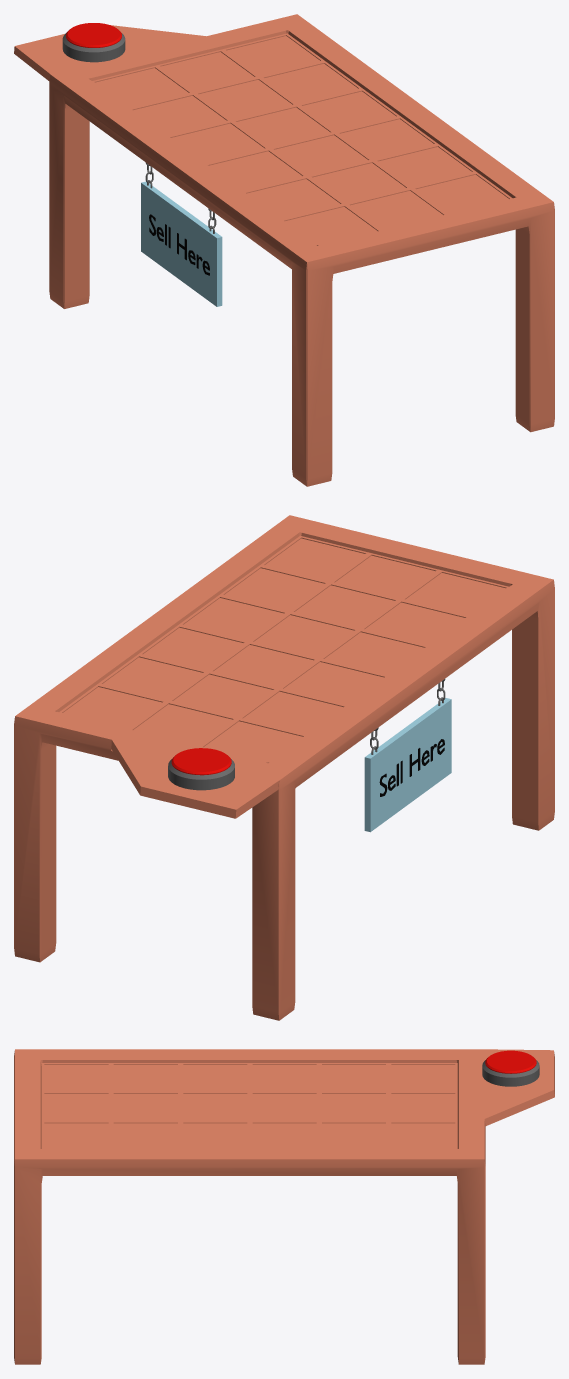
The model's file is SellTable.fbx.
The picture shows the model from 3 angles, top to bottom: view 1: azimuth 30°, elevation 25°; view 2: azimuth 150°, elevation 25°; view 3: azimuth 270°, elevation 25°; orthographic projection. The views are drawn at different scales.
Parts seen in each view (by area): view 1: Sell Table, Sell Button; view 2: Sell Table, Sell Button; view 3: Sell Table, Sell Button.
Boxes of the visible parts, x1=… form: Sell Table: x1=14, y1=14, x2=554, y2=486; Sell Button: x1=62, y1=23, x2=125, y2=62; Sell Table: x1=14, y1=515, x2=554, y2=1020; Sell Button: x1=168, y1=748, x2=234, y2=790; Sell Table: x1=14, y1=1049, x2=554, y2=1364; Sell Button: x1=482, y1=1050, x2=539, y2=1086.
Size of the model in its own units: 167 by 154 by 344.
